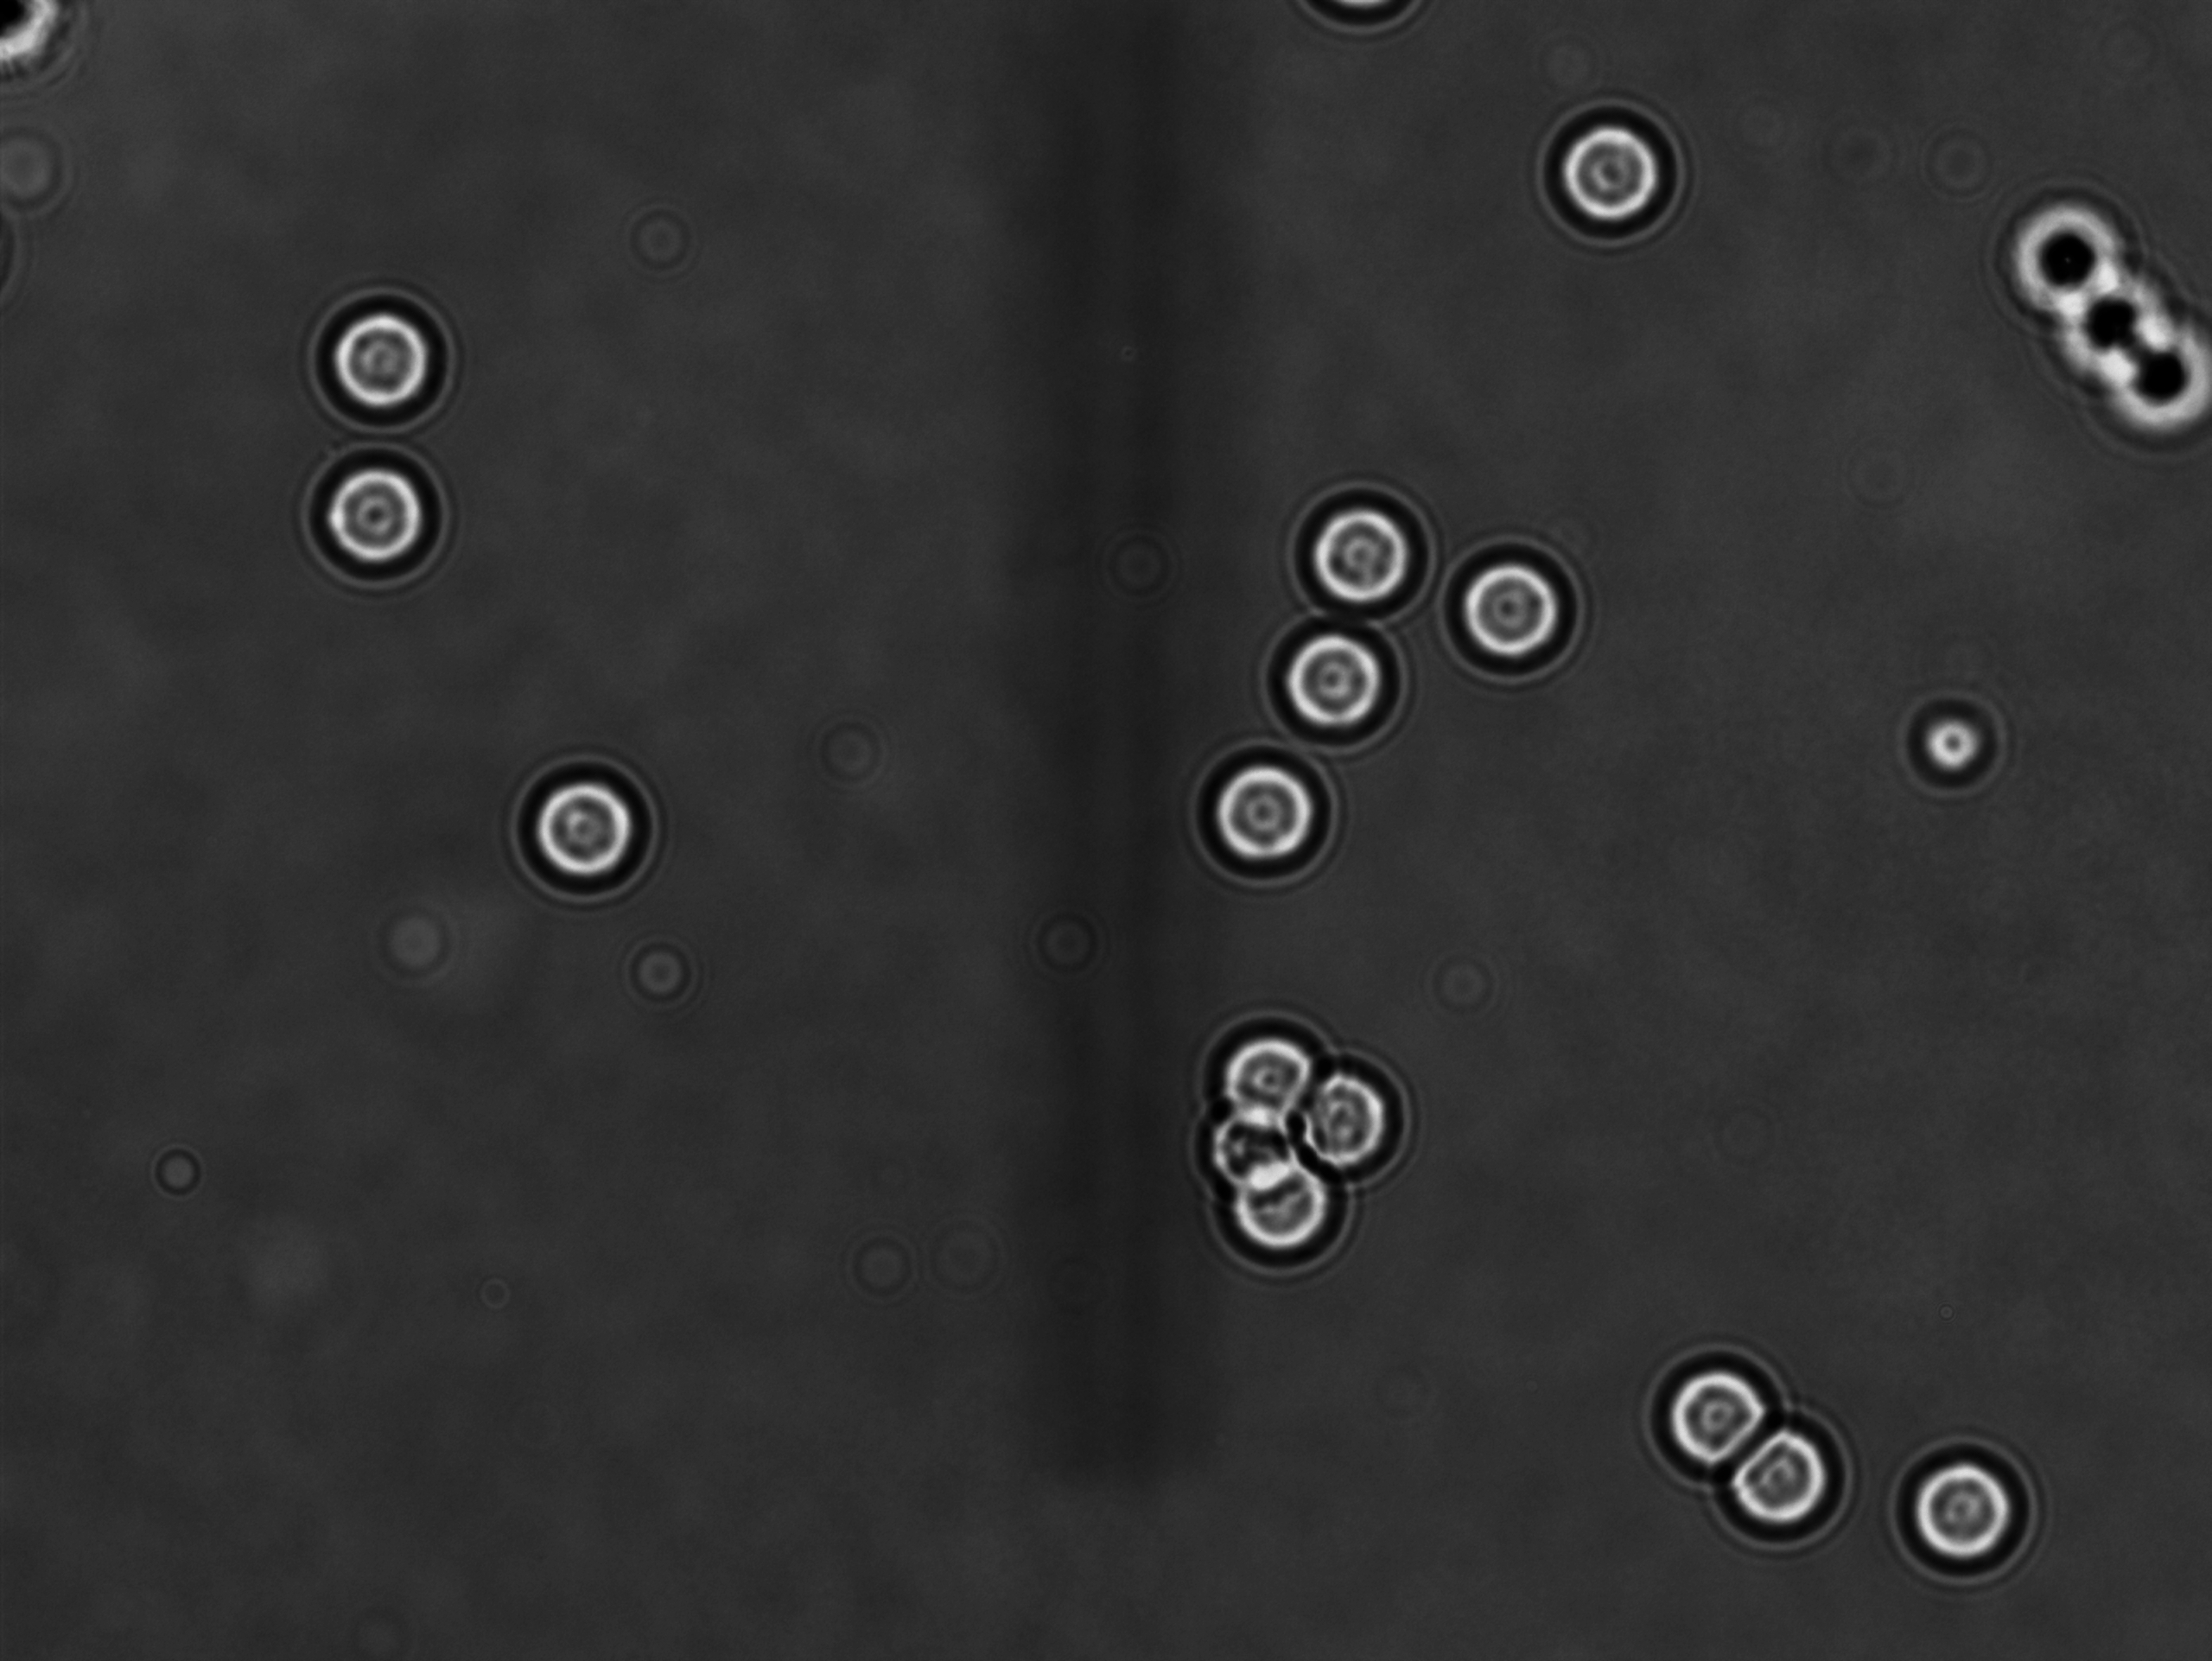depth:20: (1186, 712, 1366, 897), (481, 726, 659, 913), (283, 270, 468, 443), (1244, 598, 1434, 764), (1888, 1434, 2065, 1605), (302, 443, 487, 604), (1430, 515, 1596, 689), (1532, 96, 1706, 253), (1631, 1328, 1804, 1485), (1717, 1408, 1868, 1567), (1287, 476, 1446, 621)
